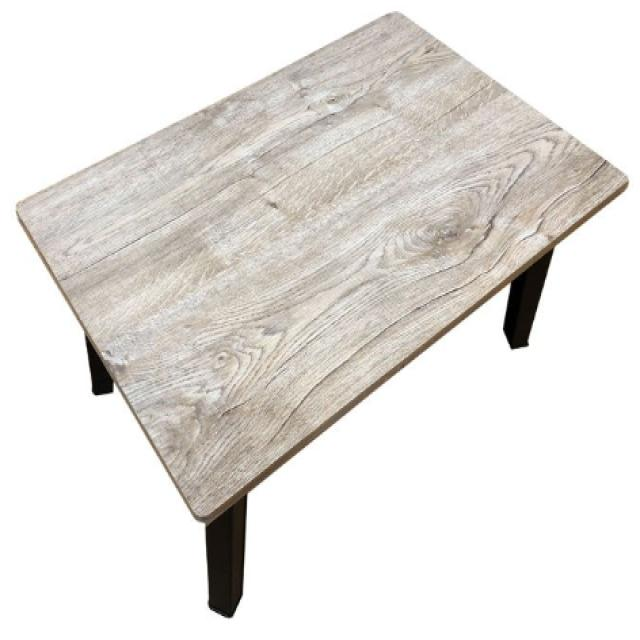table: (7, 3, 640, 619)
